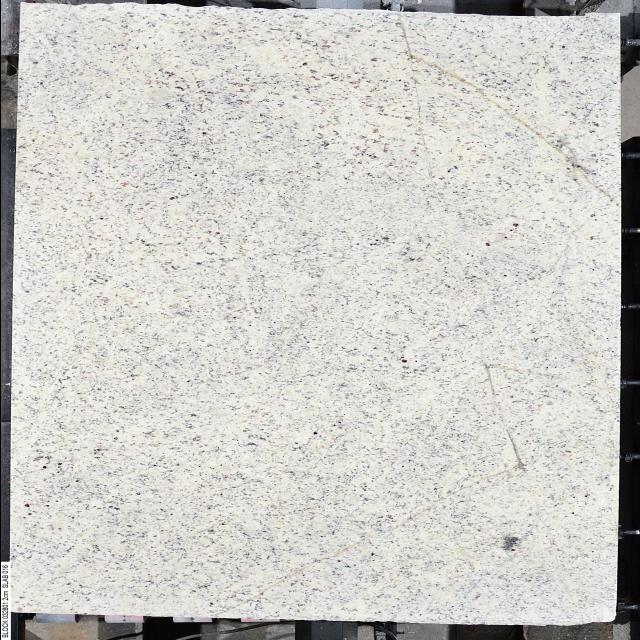chapa: (12, 5, 620, 625)
